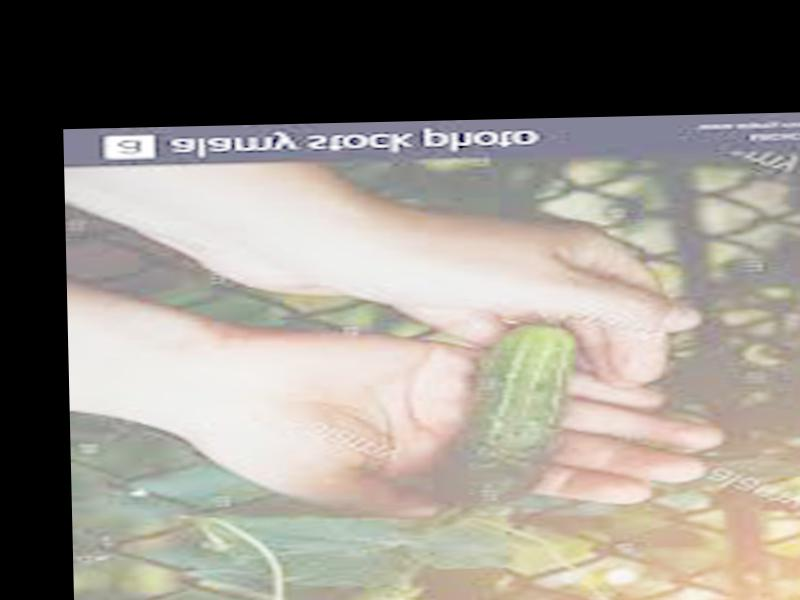Cucumber: (434, 321, 583, 507)
